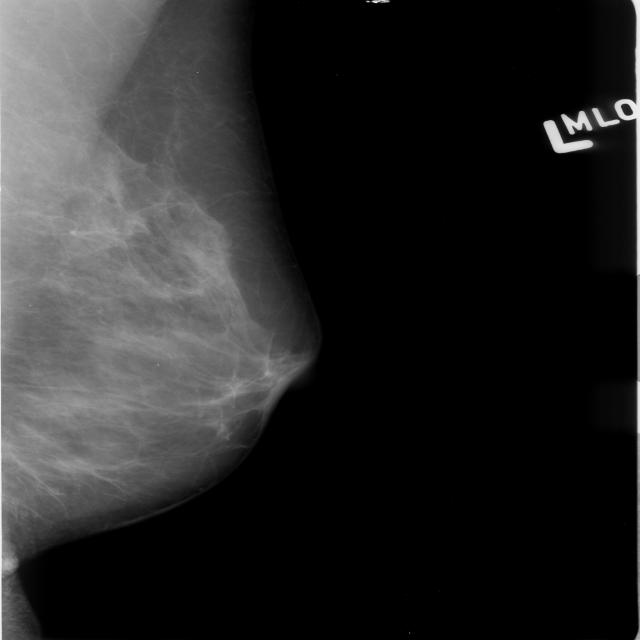normal: (0, 0, 335, 554)
